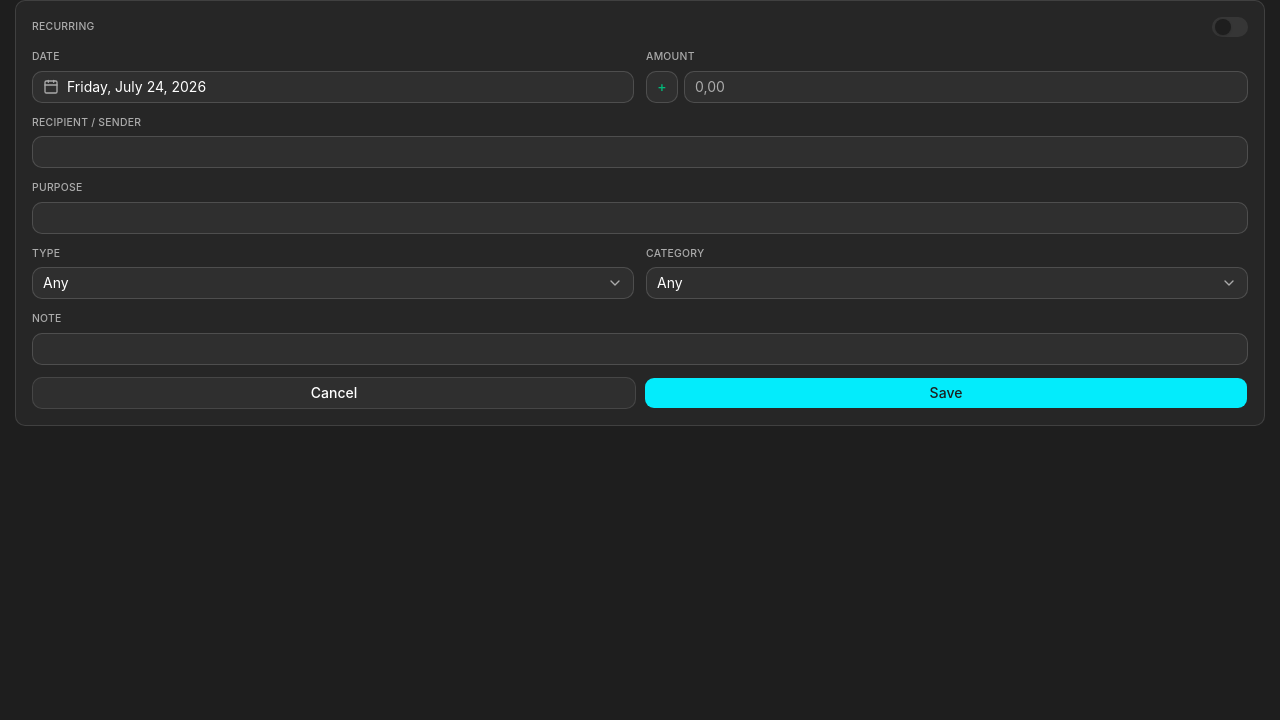
it: ManualTransactionForm — recurring › reveals the schedule fields and hides the date when recurring is enabled
The width and height of the screenshot is (1280, 720).
Check: the button named "Date" is shown, box [32,71,634,103]
Check: the field labelled "Frequency" is not shown
Click the switch named "Recurring". click: x=1230, y=27
box: [1212,17,1248,37]
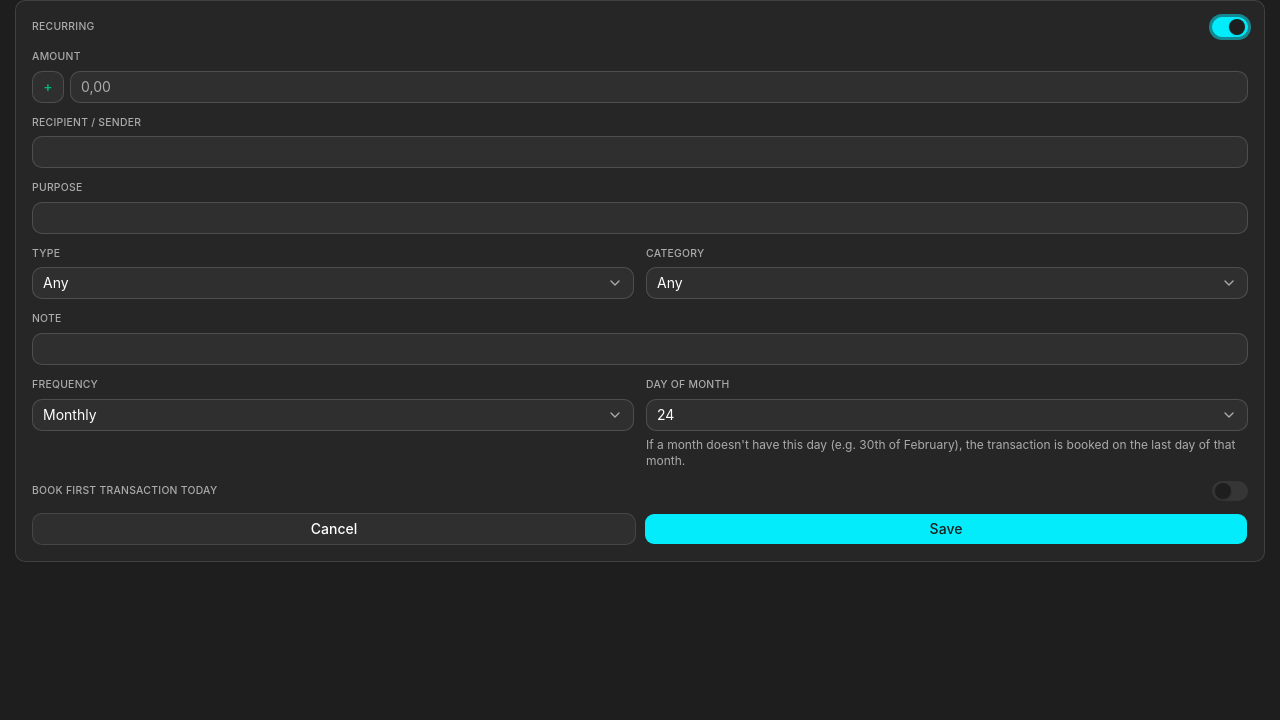
Check: the button named "Day of month" is shown, box [646,399,1248,431]
Check: the label labelled "Date" is gone
Check: the button with aria-label "Frequency" is shown, box [32,399,634,431]
